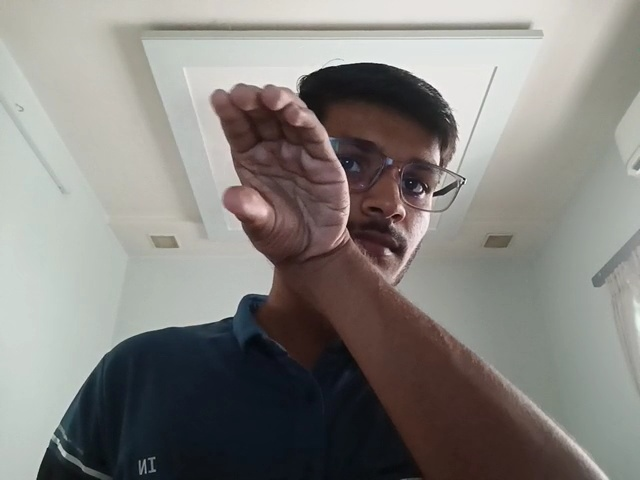No: (204, 74, 372, 273)
